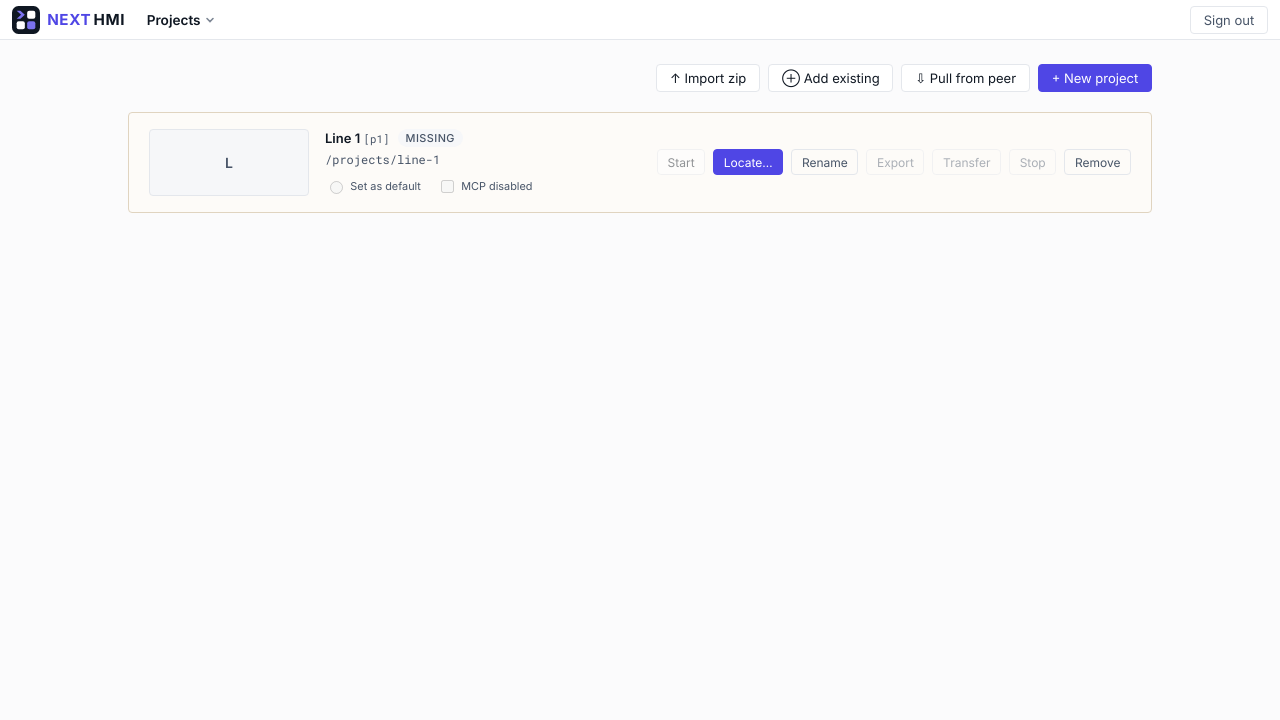
Scenario: project dialogs › opens the locate dialog for a missing project, showing the path that vanished
Click the button "Locate…". click: (748, 162)
box: [713, 149, 783, 175]
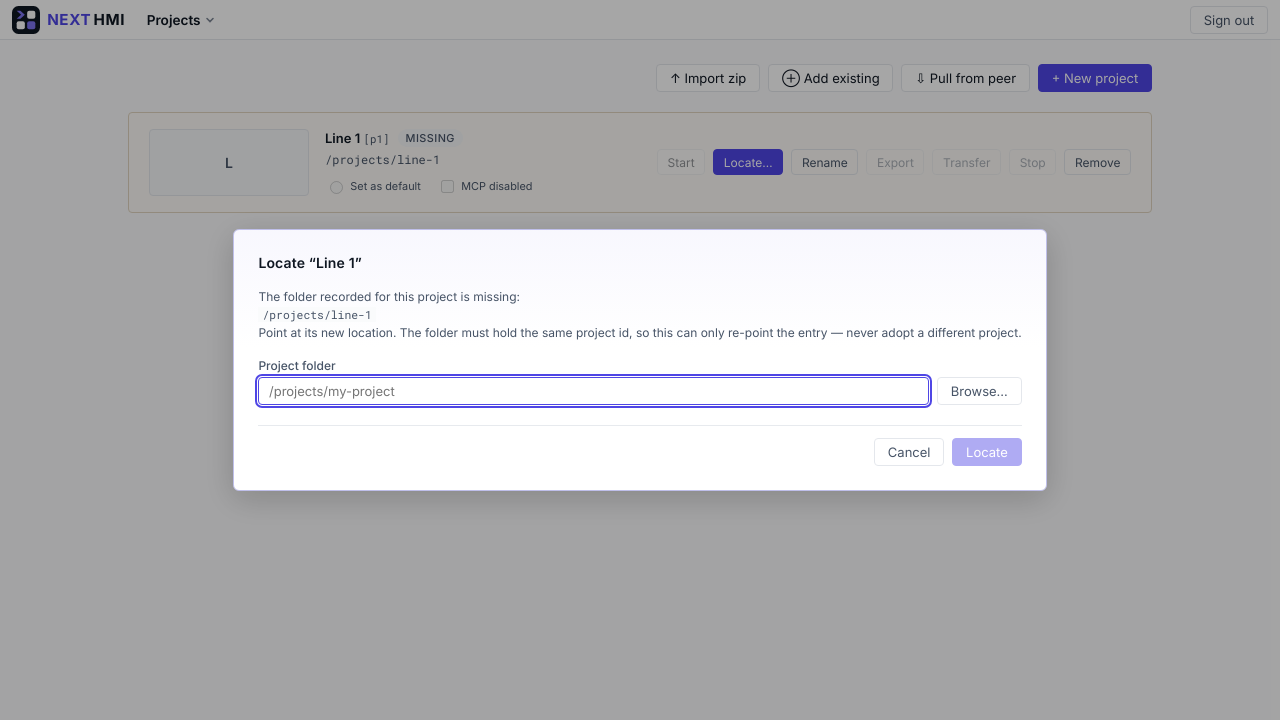
Expected: the text "folder recorded for this project is missing" is shown, [258, 289, 520, 304]
Expected: the text "/projects/line-1" is shown, [258, 307, 376, 322]
Click the button "Cancel". click: (909, 452)
box: [874, 438, 944, 466]
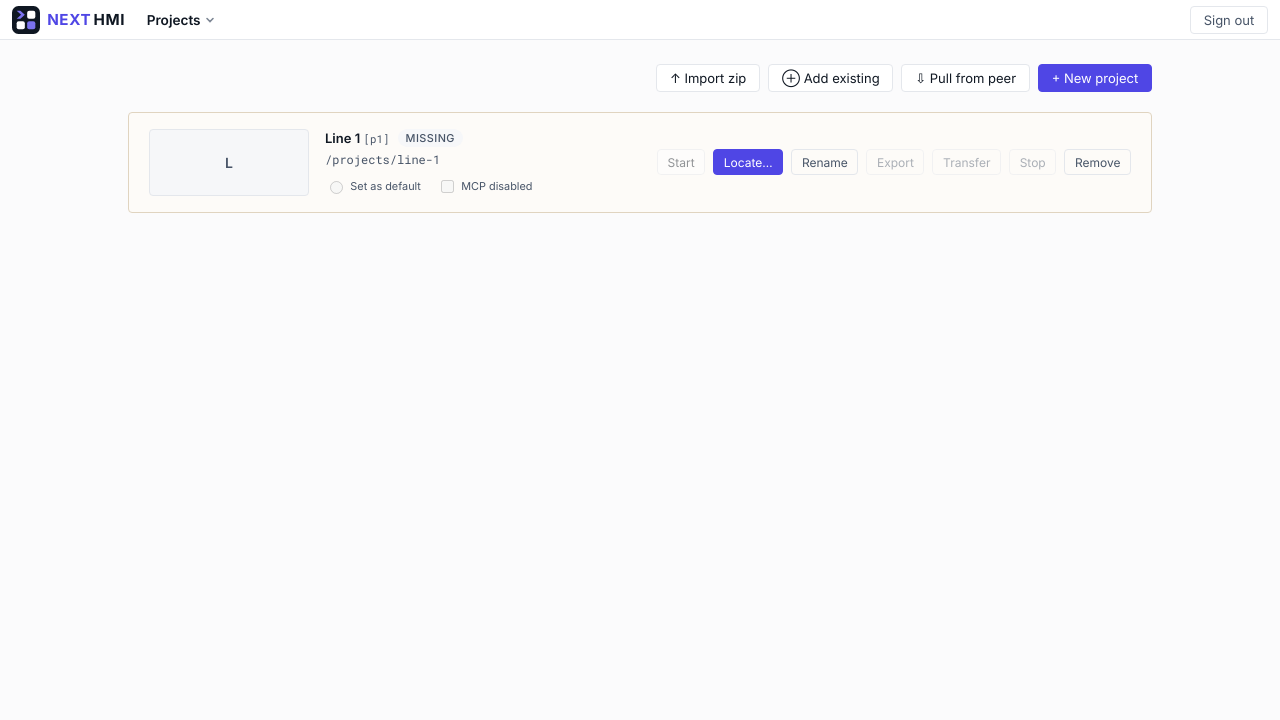
Expected: the text "folder recorded for this project is missing" is gone
